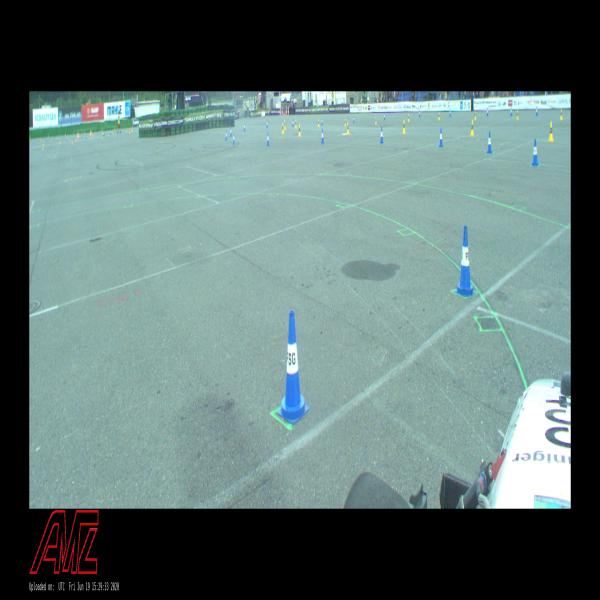blue_cone: (278, 310, 310, 424), (454, 226, 476, 296), (532, 140, 538, 166), (487, 132, 492, 152), (439, 128, 443, 147), (380, 127, 384, 143), (266, 132, 270, 146), (321, 129, 324, 143), (225, 130, 228, 140), (233, 133, 235, 144), (230, 127, 232, 136), (536, 107, 538, 115), (510, 108, 512, 115), (321, 118, 323, 125), (449, 109, 451, 116), (292, 119, 294, 126), (266, 120, 268, 127), (244, 123, 245, 131), (419, 110, 420, 117), (353, 116, 354, 123), (384, 113, 385, 120), (487, 108, 488, 115)
yellow_cone: (548, 122, 554, 141), (470, 120, 474, 135), (402, 120, 406, 133), (346, 122, 349, 134), (298, 124, 301, 136), (560, 109, 563, 119), (516, 110, 519, 120), (282, 123, 284, 134), (284, 119, 286, 130), (407, 114, 410, 121), (344, 118, 346, 127), (295, 120, 297, 128), (438, 112, 440, 120), (318, 120, 320, 128), (474, 111, 476, 119), (375, 118, 377, 124)
